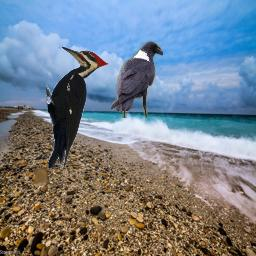Crow: (110, 41, 163, 118)
Woodpecker: (46, 45, 111, 168)
